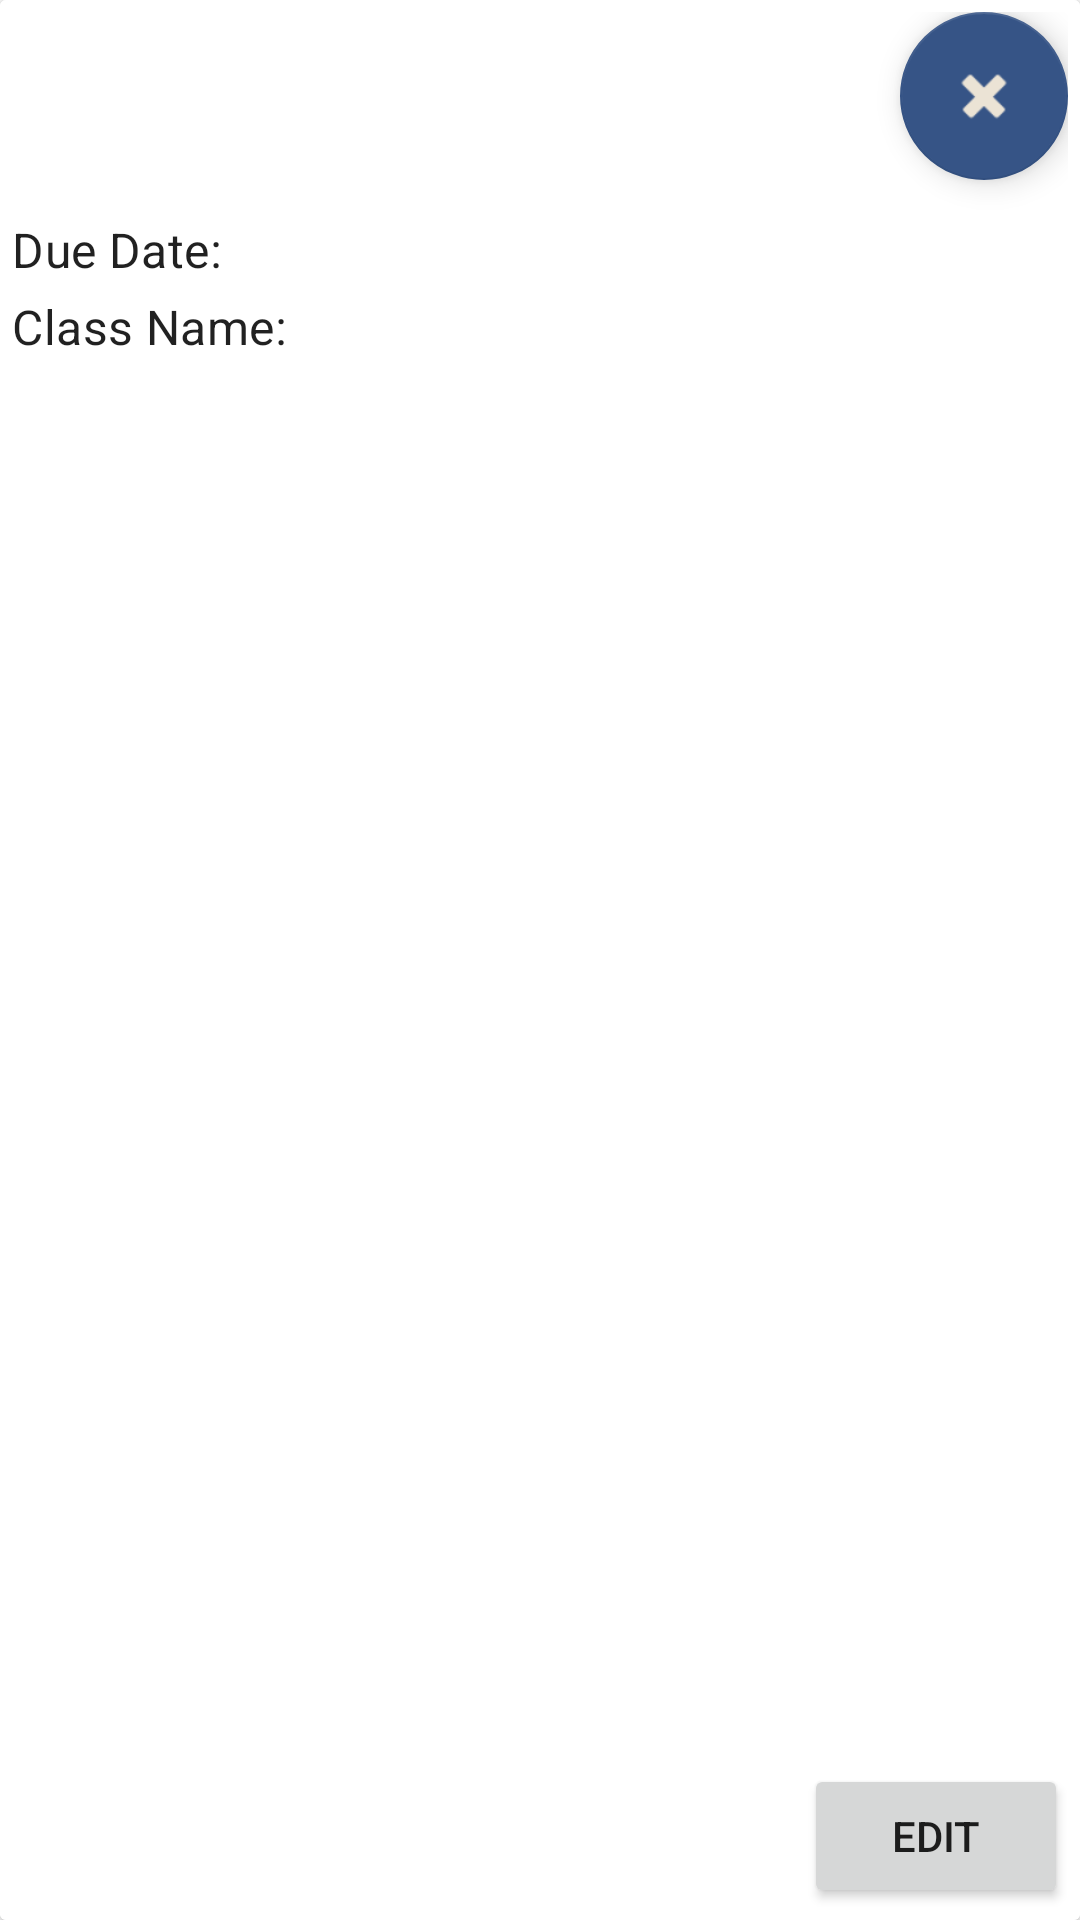

Named icons in this screenshot (1080px×1920px) and their bounding boxes, (x1=x1, y1=y1, x2=x2, y2=y2):
delete: (x1=900, y1=12, x2=1068, y2=180)
